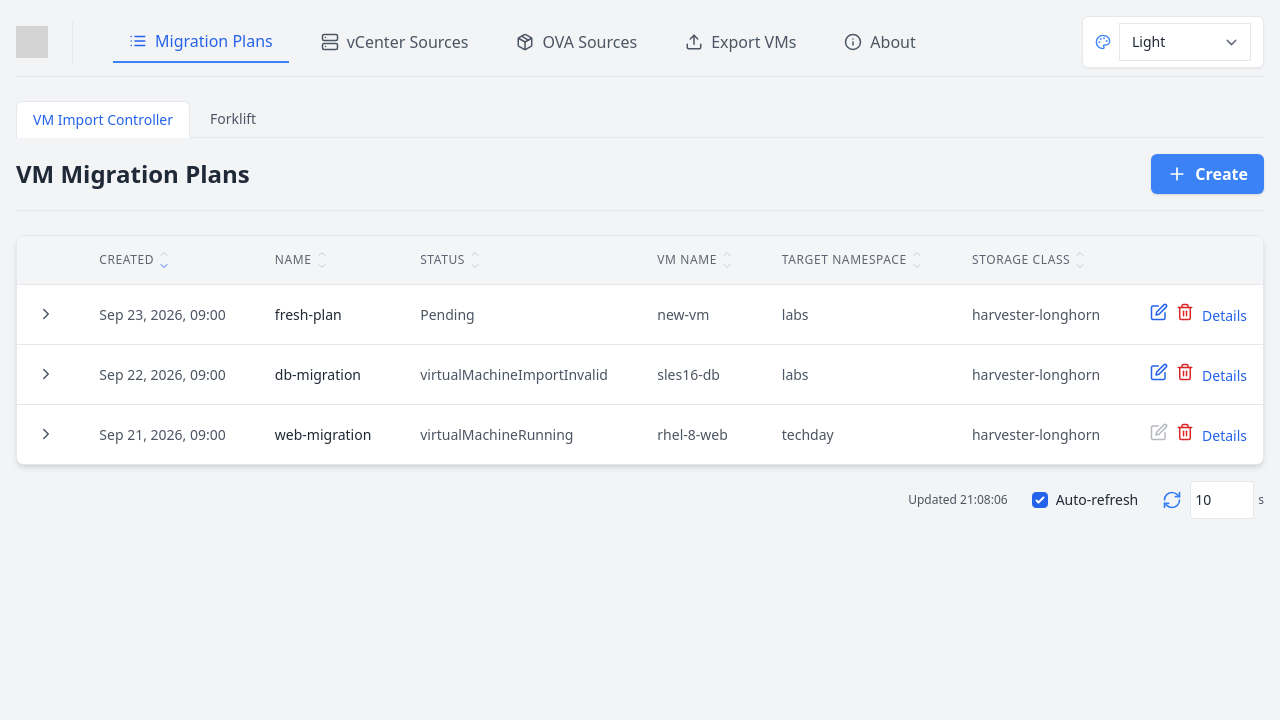
Test case: edit flows fetch the full object and open the wizard on it › OVA source
Step 1. Click the button "OVA Sources" → (577, 42), box [500, 21, 653, 63]
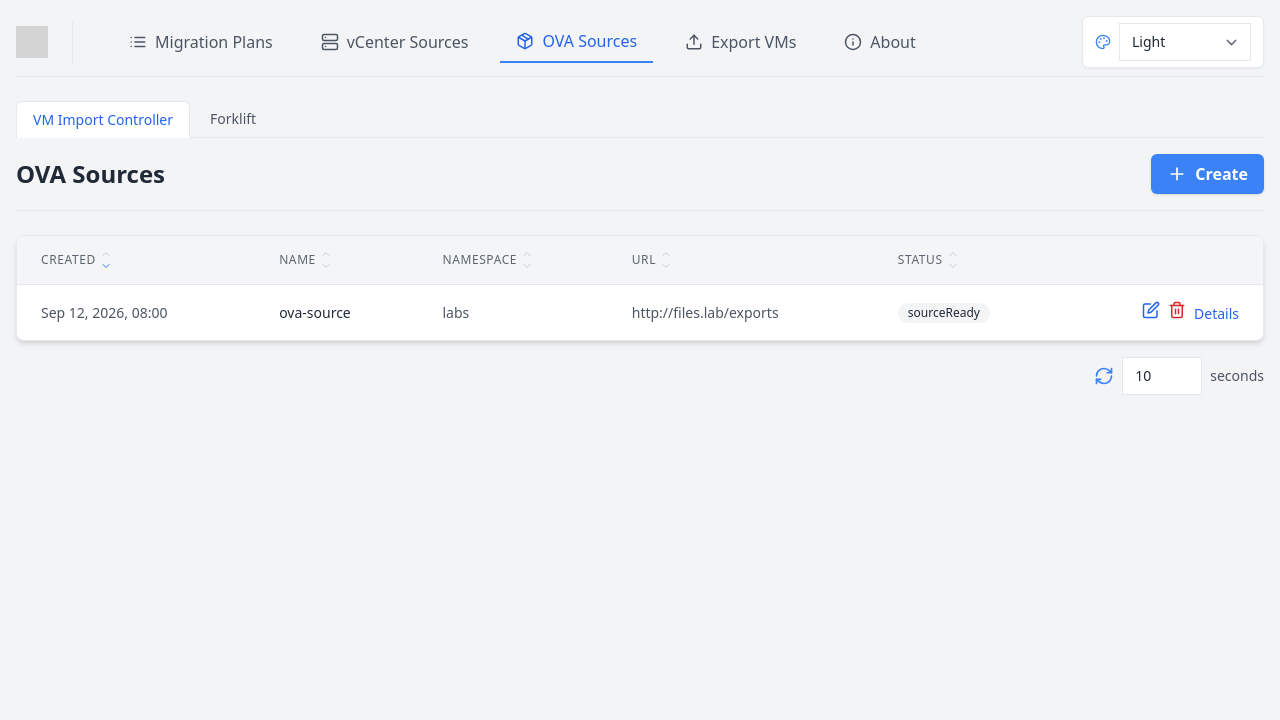
Step 2. Click the button titled "Edit" → (1151, 310), box [1142, 301, 1160, 319]
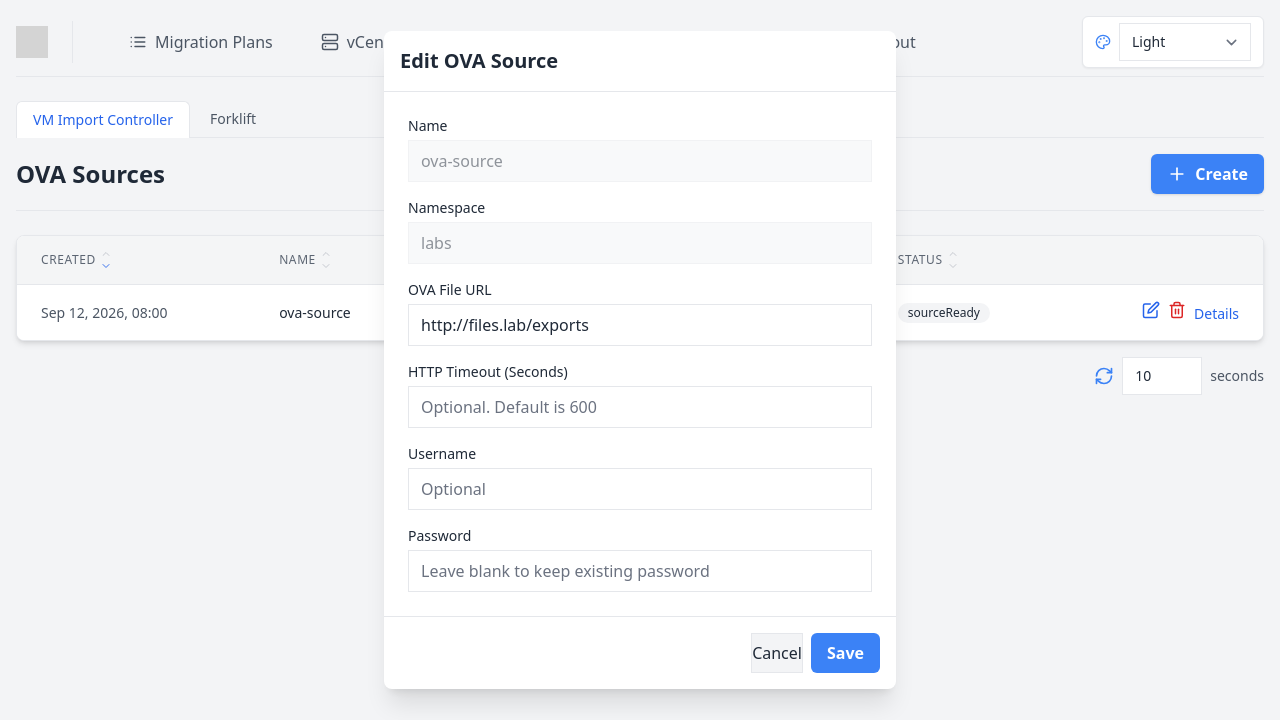
Expected: the 1st field showing "ova-source" is shown, [408, 140, 872, 182]
